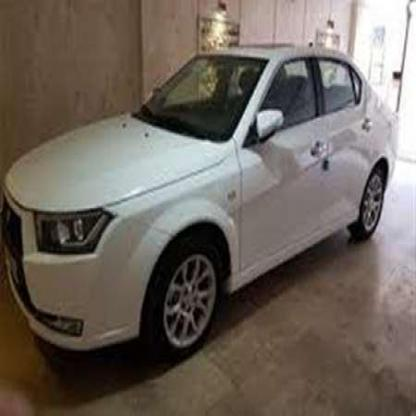Car: (0, 34, 399, 371)
